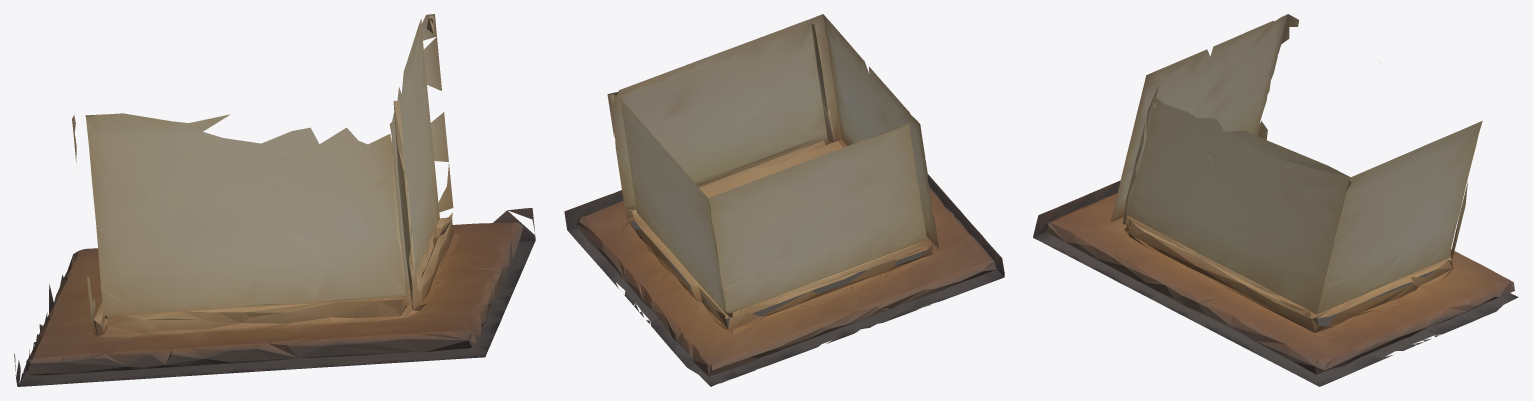
File: step5_occluded_submesh_00.glb
3 views of the same model, side by side, from view 1: azimuth 30°, elevation 25°; view 2: azimuth 150°, elevation 25°; view 3: azimuth 270°, elevation 25° (orthographic). The views are drawn at different scales.
Parts seen in each view (by area): view 1: world; view 2: world; view 3: world.
Part boxes in pixels (x1,y1,x2,y2): world: (14,14,535,386); world: (564,14,1004,386); world: (1033,14,1518,386).
Size of the model in its own units: 0.5147 by 0.2861 by 0.4976.
